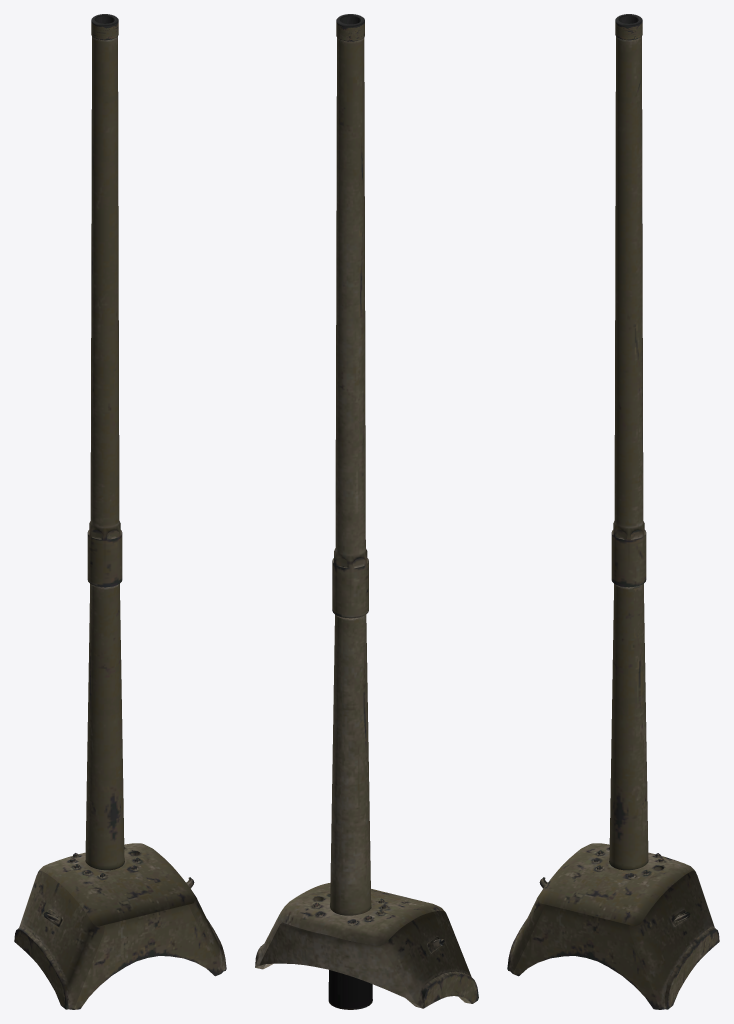
Rendered from Gun_02.glb.
3 renders of one model, left to right at view 1: azimuth 30°, elevation 25°; view 2: azimuth 150°, elevation 25°; view 3: azimuth 330°, elevation 25°, orthographic. The views are drawn at different scales.
Parts seen in each view (by area): view 1: set_0_group_0; view 2: set_0_group_0; view 3: set_0_group_0.
Boxes of the visible parts, bbox=[...] form: set_0_group_0: bbox=[14, 14, 226, 1009]; set_0_group_0: bbox=[255, 14, 478, 1009]; set_0_group_0: bbox=[507, 14, 719, 1009].
Size of the model in its own units: 0.9576 by 5.38 by 0.6762.
1 material, 1 textured.
